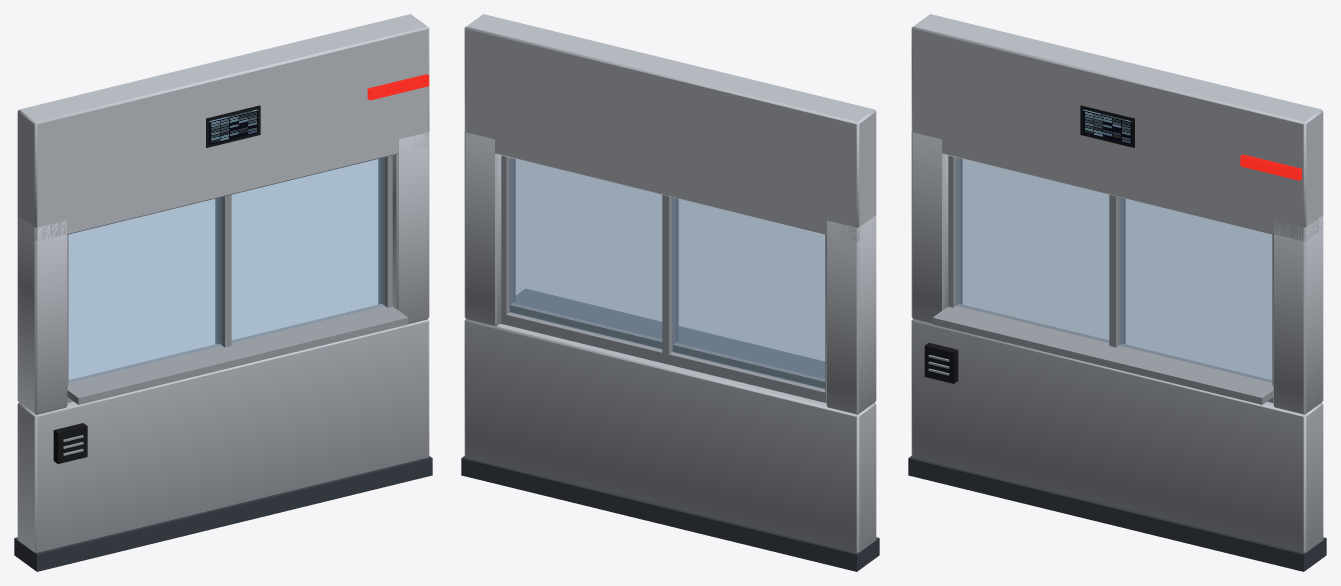
Rendered from cell_observation_window.glb.
The picture shows the model from 3 angles, left to right: view 1: azimuth 30°, elevation 25°; view 2: azimuth 150°, elevation 25°; view 3: azimuth 330°, elevation 25°; orthographic projection.
Visible parts, largest first — view 1: cell_observation_window; view 2: cell_observation_window; view 3: cell_observation_window.
Boxes of the visible parts, x1,y1,x2,y2 form: cell_observation_window: (14,14,432,571); cell_observation_window: (461,14,879,571); cell_observation_window: (908,14,1326,571).
Size of the model in its own units: 2.41 by 2.6 by 0.33.
Materials: 7 (1 with a texture image).
